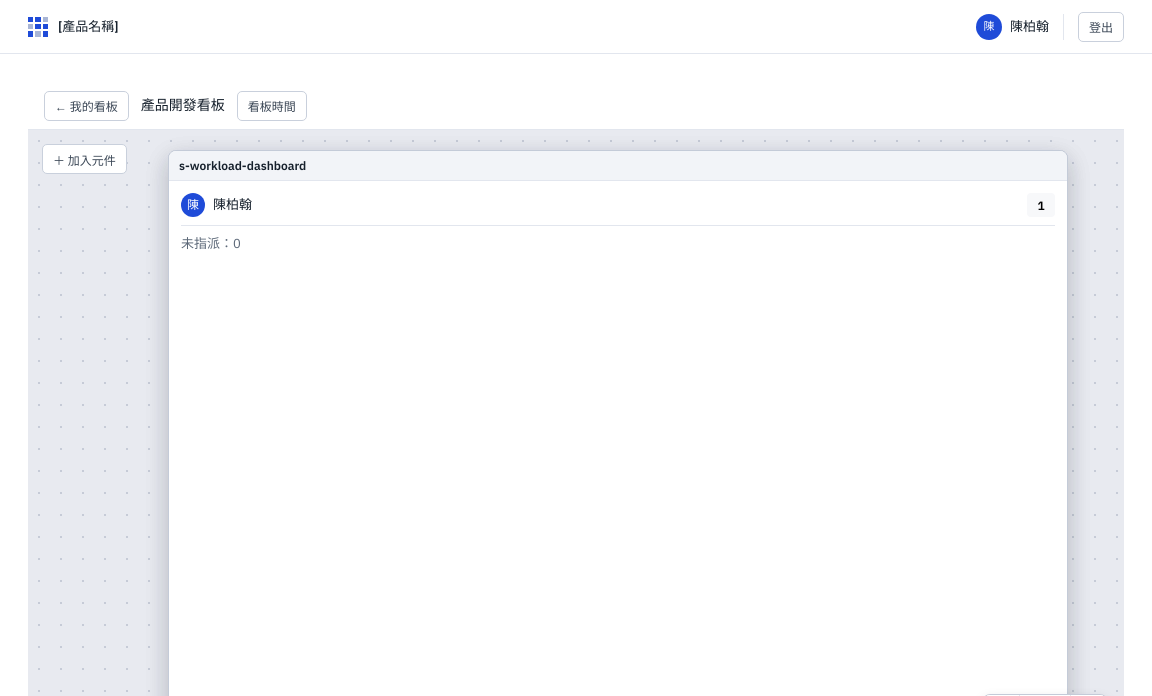
Test: 跨 item：s-cards-by-assignee 點擊卡片開啟 s-card-detail › 依負責人查看卡片時，點擊卡片列開啟同一畫布上看板本體 item 的卡片詳情
Click the button with test id "workload-count-user-1": (1041, 205) x1=1027 y1=193 x2=1055 y2=217
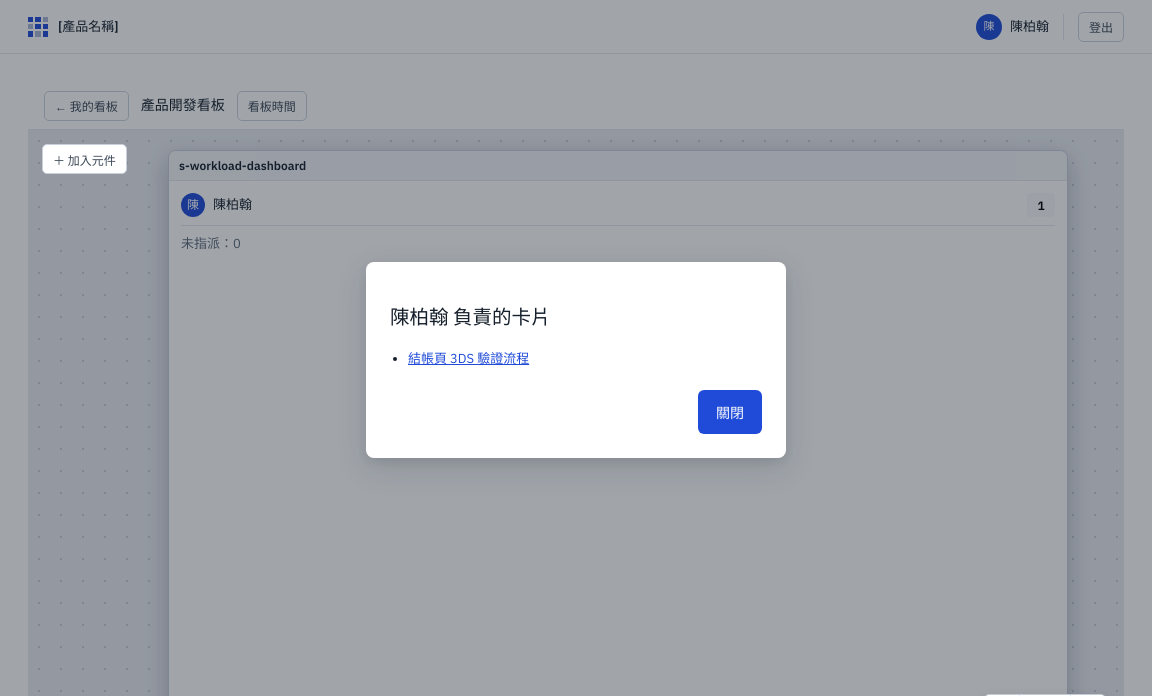
expect the heading "陳柏翰 負責的卡片" is shown: met, box x1=390 y1=304 x2=551 y2=329
Click the button "結帳頁 3DS 驗證流程": (469, 357) x1=408 y1=348 x2=529 y2=366
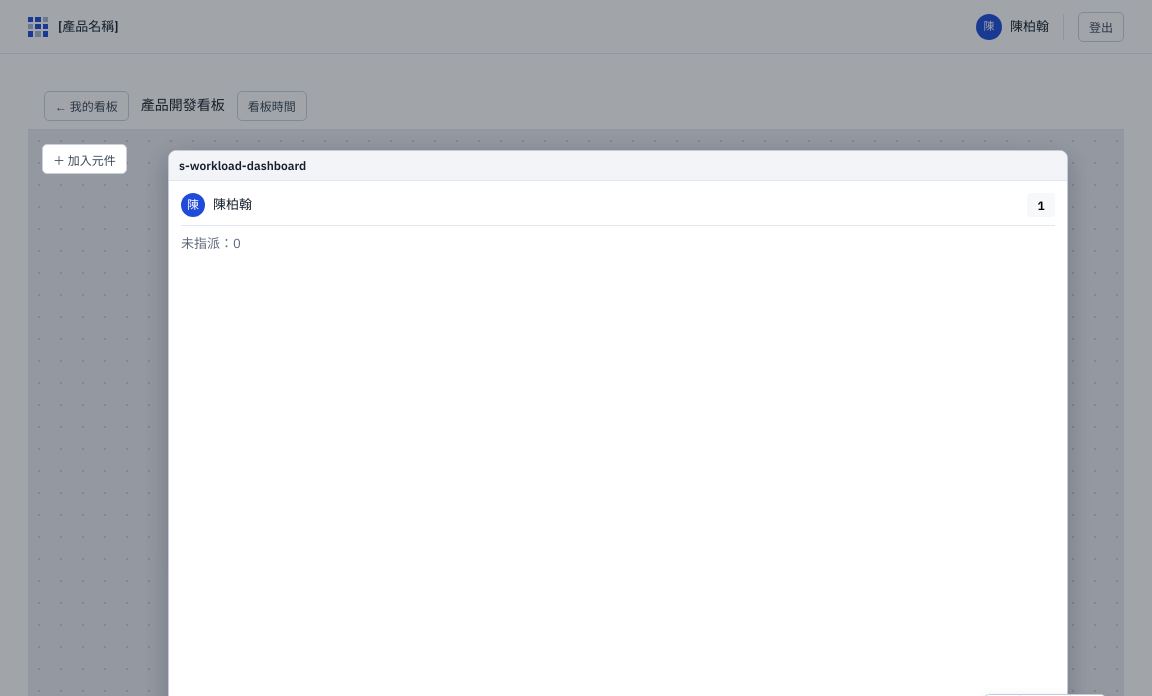
expect the heading "陳柏翰 負責的卡片" is gone: met
